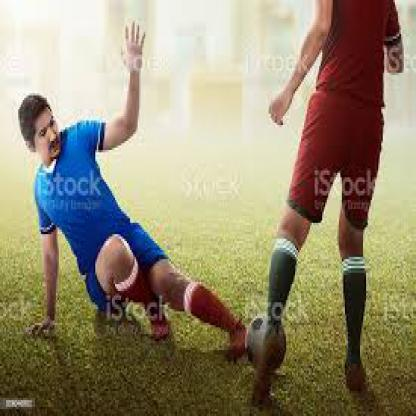Fall_Down: (16, 20, 248, 354)
